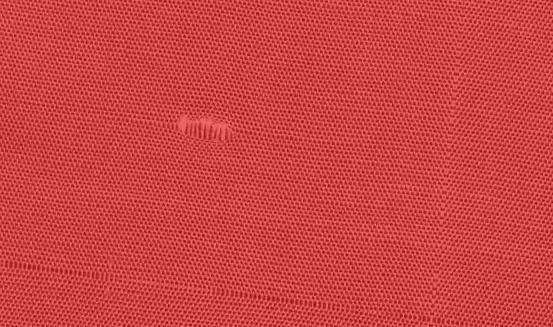slub: (169, 106, 244, 153)
